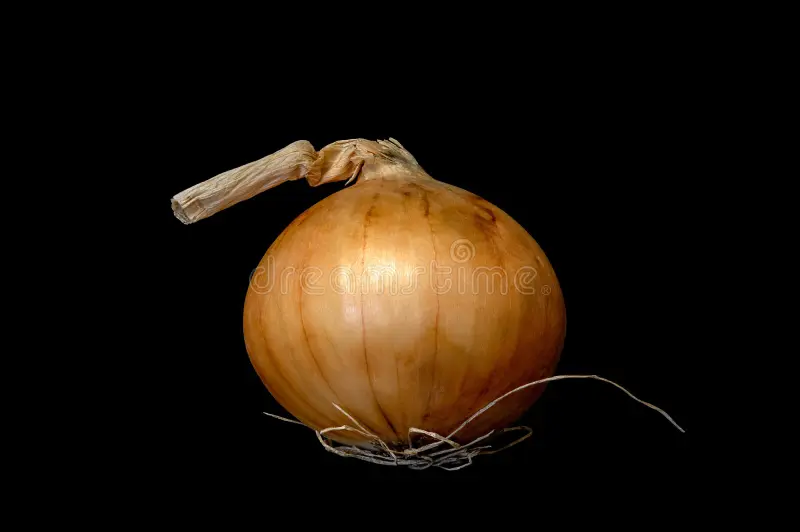onion: (227, 137, 584, 466)
